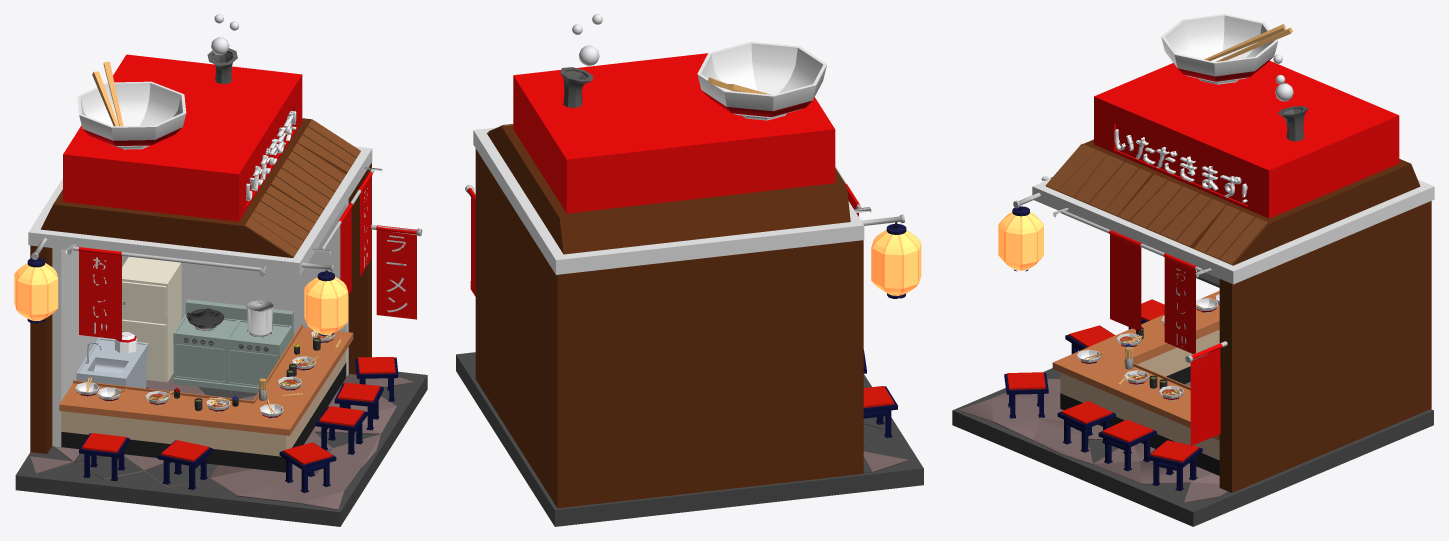
The model's file is stylized_japanese_ramen_street_food_stal.glb.
The picture shows the model from 3 angles, left to right: view 1: azimuth 30°, elevation 25°; view 2: azimuth 150°, elevation 25°; view 3: azimuth 270°, elevation 25°; orthographic projection. The views are drawn at different scales.
Visible parts, largest first — view 1: main wall_86, table_7, stone floor_81, block stone_80, roof planks_42, brown walls_87, refridgerator_60, empty bowl.003_16, burner_62, banner_54, banner.002_56, sink_58 (+18 smaller); view 2: brown walls_87, main wall_86, stone floor_81, empty bowl.003_16, lantern.003_85, chair.005_6, chimney_40, block stone_80, banner.002_56; view 3: brown walls_87, main wall_86, table_7, roof planks_42, stone floor_81, block stone_80, empty bowl.003_16, banner.003_57, banner.001_55, banner.002_56, lantern.002_84, name plate_53 (+7 smaller).
Part boxes in pixels (x1,y1,x2,y2): main wall_86: [28, 54, 372, 446]; table_7: [59, 324, 353, 472]; stone floor_81: [15, 371, 427, 526]; block stone_80: [30, 373, 413, 509]; roof planks_42: [244, 119, 360, 257]; brown walls_87: [30, 162, 371, 453]; refridgerator_60: [122, 256, 181, 382]; empty bowl.003_16: [77, 81, 186, 149]; burner_62: [173, 299, 293, 393]; banner_54: [78, 247, 121, 339]; banner.002_56: [376, 225, 416, 319]; sink_58: [76, 337, 148, 388]; brown walls_87: [475, 149, 863, 508]; main wall_86: [473, 53, 864, 274]; stone floor_81: [456, 352, 923, 526]; empty bowl.003_16: [697, 41, 826, 120]; lantern.003_85: [871, 230, 921, 295]; chair.005_6: [863, 386, 897, 437]; chimney_40: [560, 67, 593, 107]; block stone_80: [863, 423, 908, 472]; banner.002_56: [467, 188, 475, 296]; brown walls_87: [1219, 201, 1431, 492]; main wall_86: [1032, 60, 1434, 284]; table_7: [1052, 291, 1219, 475]; roof planks_42: [1045, 144, 1267, 264]; stone floor_81: [952, 368, 1433, 526]; block stone_80: [959, 379, 1228, 503]; empty bowl.003_16: [1161, 14, 1277, 84]; banner.003_57: [1109, 230, 1142, 331]; banner.001_55: [1163, 253, 1196, 353]; banner.002_56: [1190, 343, 1222, 445]; lantern.002_84: [998, 212, 1043, 270]; name plate_53: [1114, 129, 1247, 202].
Size of the model in its own units: 17.54 by 15.67 by 17.56.
